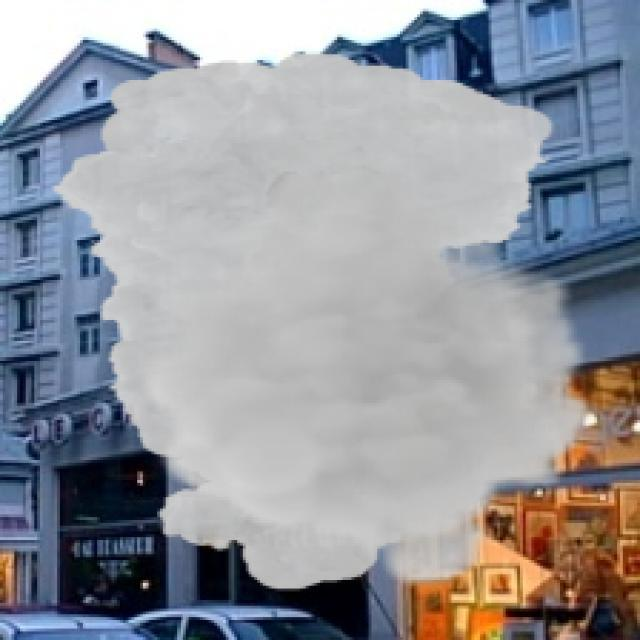Smoke: (48, 51, 598, 592)
